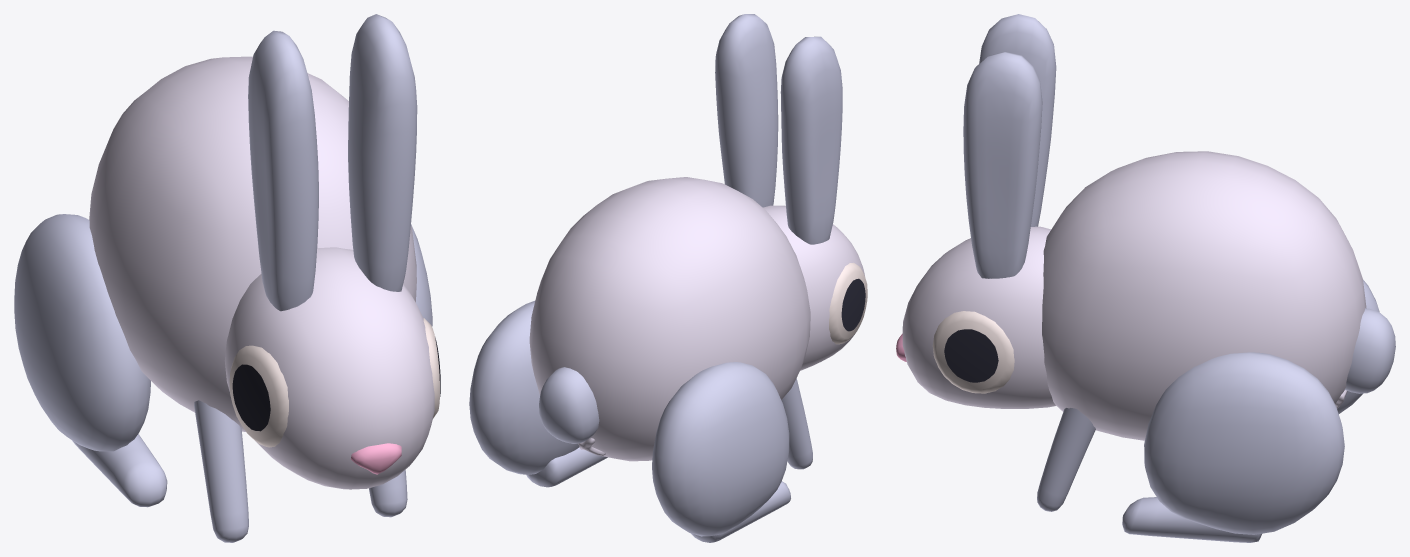
The model's file is Hare.glb.
3 views of the same model, side by side, from view 1: azimuth 30°, elevation 25°; view 2: azimuth 150°, elevation 25°; view 3: azimuth 270°, elevation 25° (orthographic). The views are drawn at different scales.
Parts seen in each view (by area): view 1: Hare; view 2: Hare; view 3: Hare.
Part boxes in pixels (x1,y1,x2,y2): Hare: (14, 14, 440, 542); Hare: (469, 14, 867, 542); Hare: (896, 14, 1395, 542).
Size of the model in its own units: 1.26 by 1.76 by 1.8.
Materials: 1 (1 with a texture image).
